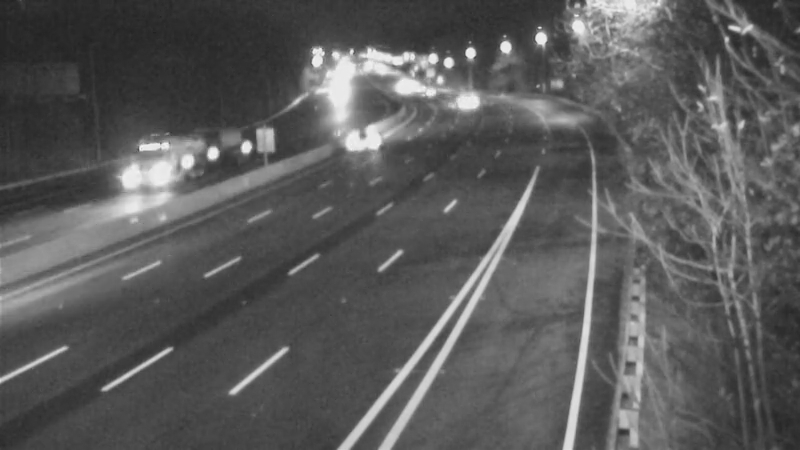vehicle: (104, 129, 184, 209), (407, 66, 457, 116), (434, 77, 484, 127), (352, 112, 402, 162)
